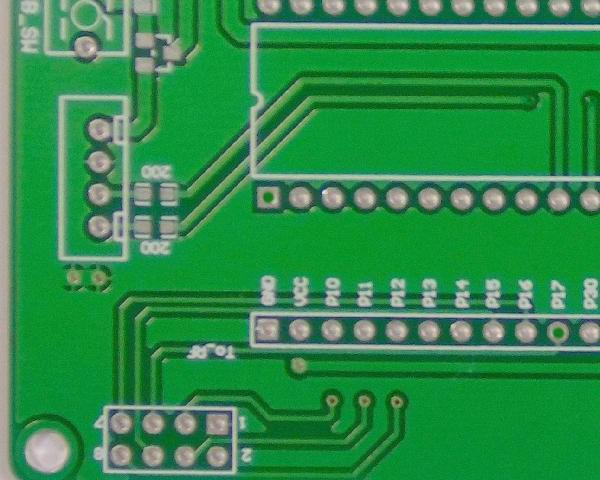missing hole: (254, 182, 284, 212), (545, 317, 574, 346)
